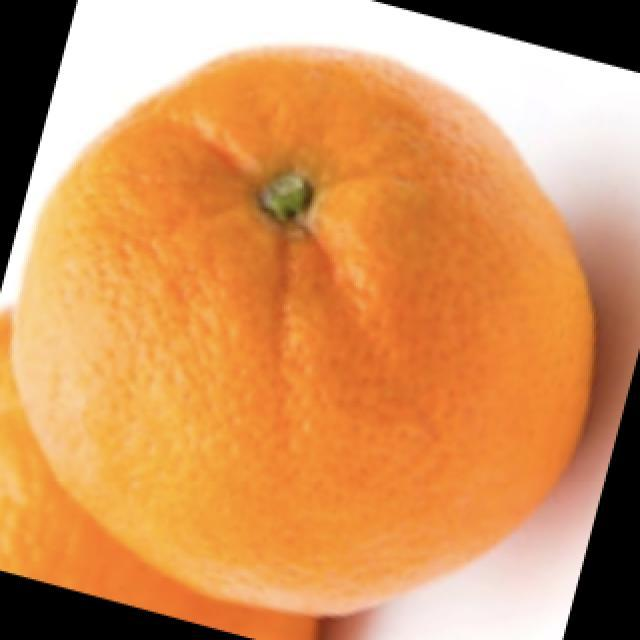Orange: (10, 42, 598, 619), (0, 299, 319, 639)
